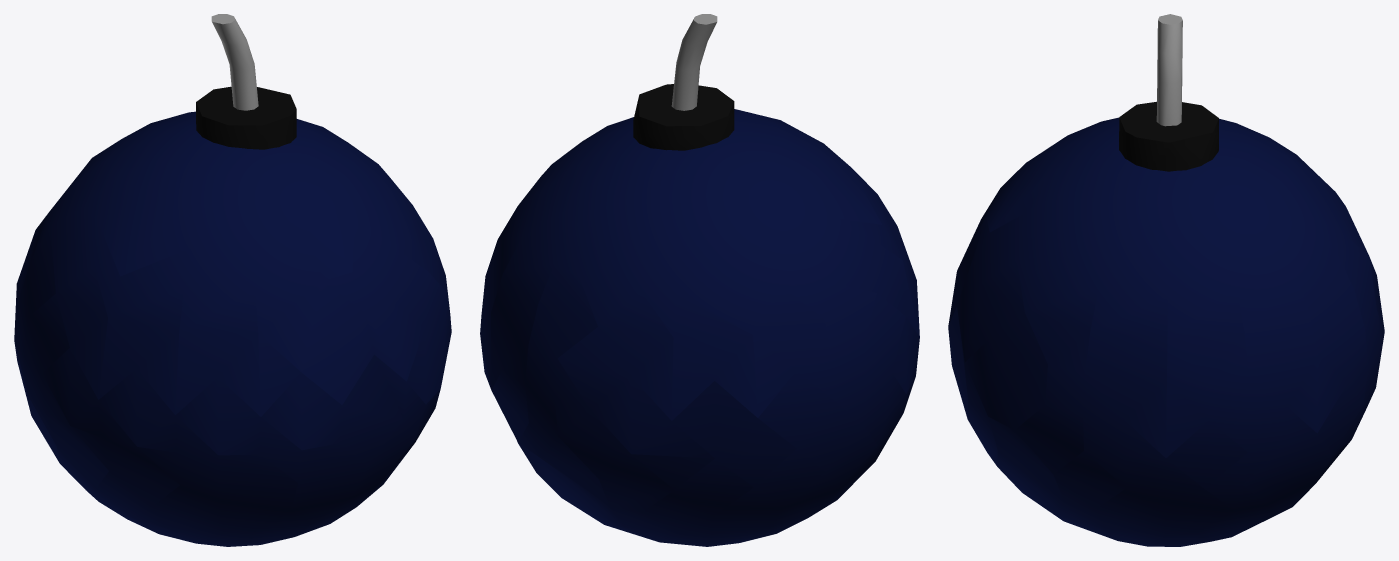
File: bomb_default.FBX
3 renders of one model, left to right at view 1: azimuth 30°, elevation 25°; view 2: azimuth 150°, elevation 25°; view 3: azimuth 270°, elevation 25°, orthographic.
Visible parts, largest first — view 1: Sphere10; view 2: Sphere10; view 3: Sphere10.
Part boxes in pixels (x1,y1,x2,y2): Sphere10: (14, 14, 451, 546); Sphere10: (480, 14, 919, 546); Sphere10: (948, 14, 1384, 546).
Size of the model in its own units: 36.7 by 47.23 by 37.05.
